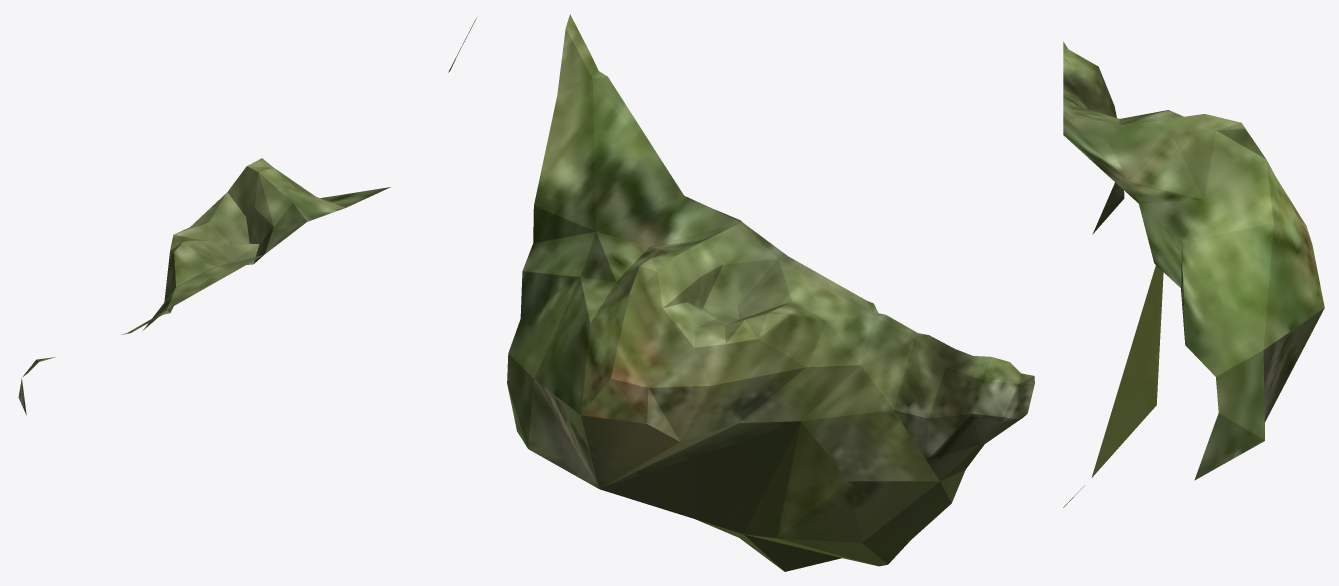
3 renders of one model, left to right at view 1: azimuth 30°, elevation 25°; view 2: azimuth 150°, elevation 25°; view 3: azimuth 270°, elevation 25°, orthographic. The views are drawn at different scales.
Bounding box in the file's own units: 1.06 × 1.1 × 0.4169.
Materials: 1 (1 with a texture image).
